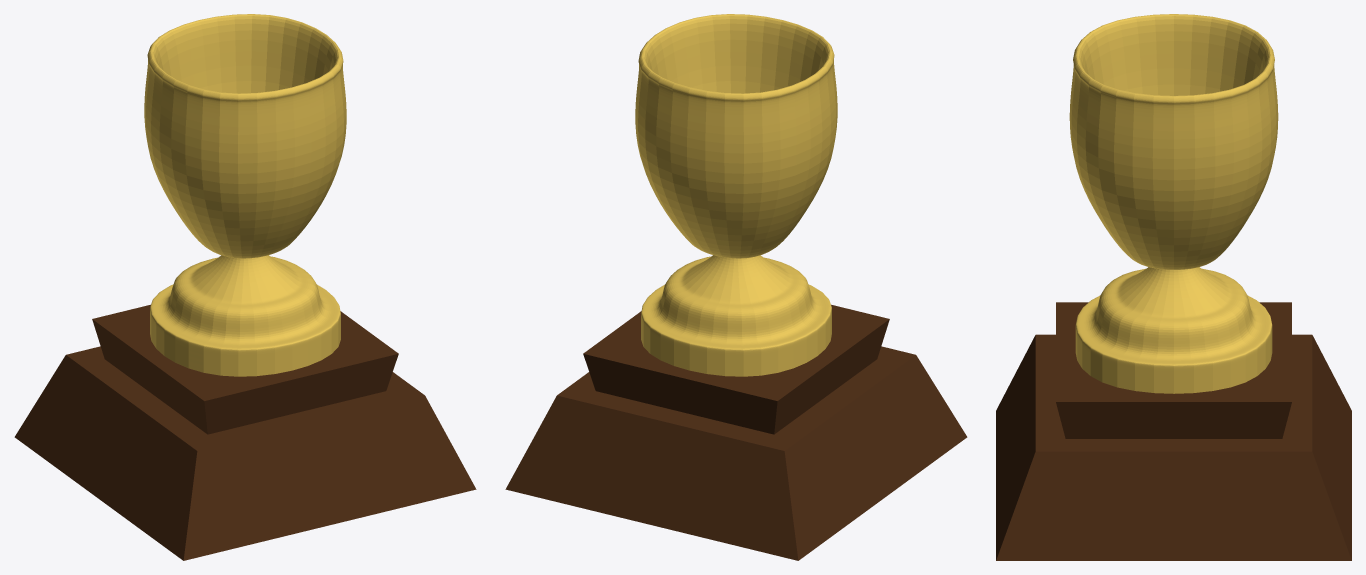
The model's file is trophy.gltf.
The picture shows the model from 3 angles, left to right: view 1: azimuth 30°, elevation 25°; view 2: azimuth 150°, elevation 25°; view 3: azimuth 270°, elevation 25°; orthographic projection. The views are drawn at different scales.
Visible parts, largest first — view 1: Cube.001, Cube; view 2: Cube.001, Cube; view 3: Cube.001, Cube.
Part boxes in pixels (<box>): Cube.001: <box>14,304,476,560</box>; Cube: <box>144,14,346,376</box>; Cube.001: <box>505,304,967,560</box>; Cube: <box>635,14,837,376</box>; Cube.001: <box>996,302,1351,560</box>; Cube: <box>1069,14,1278,393</box>.
Size of the model in its own units: 3.31 by 4.42 by 3.31.
